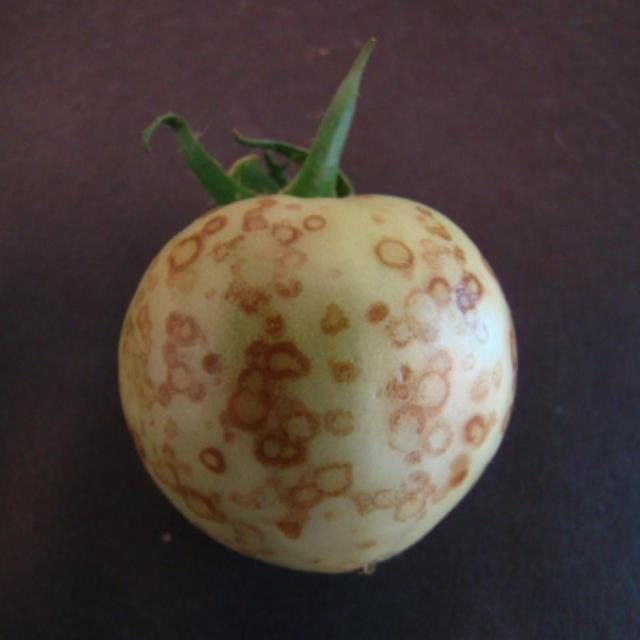Spotted wilt Virus Fruit: (78, 127, 348, 386)
